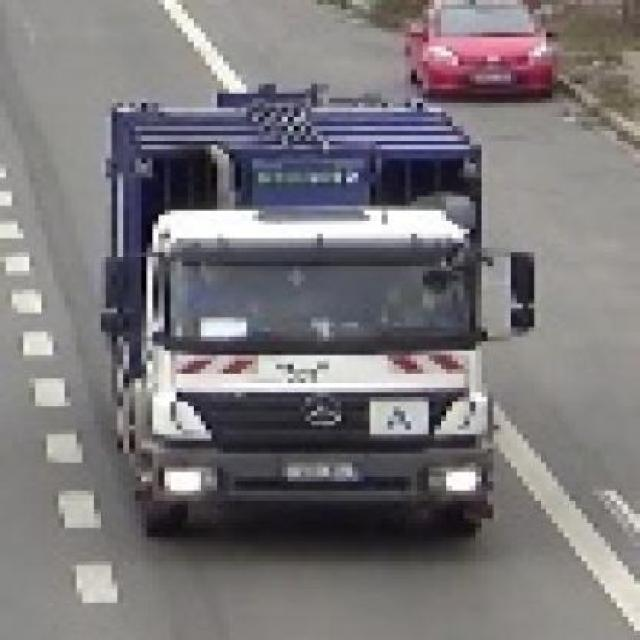truck: (95, 103, 530, 539)
